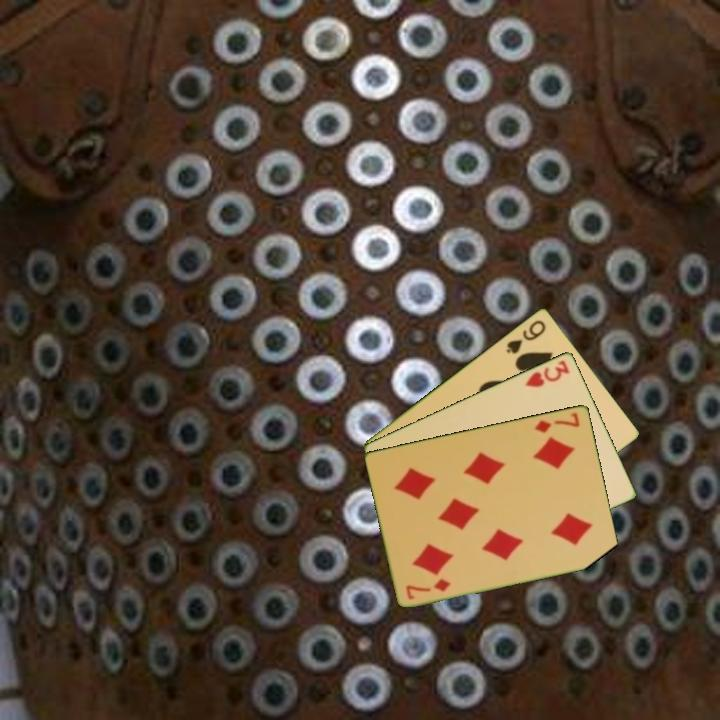3h: (522, 356, 573, 390)
7d: (531, 408, 583, 435), (402, 575, 454, 602)
9s: (502, 316, 549, 356)
